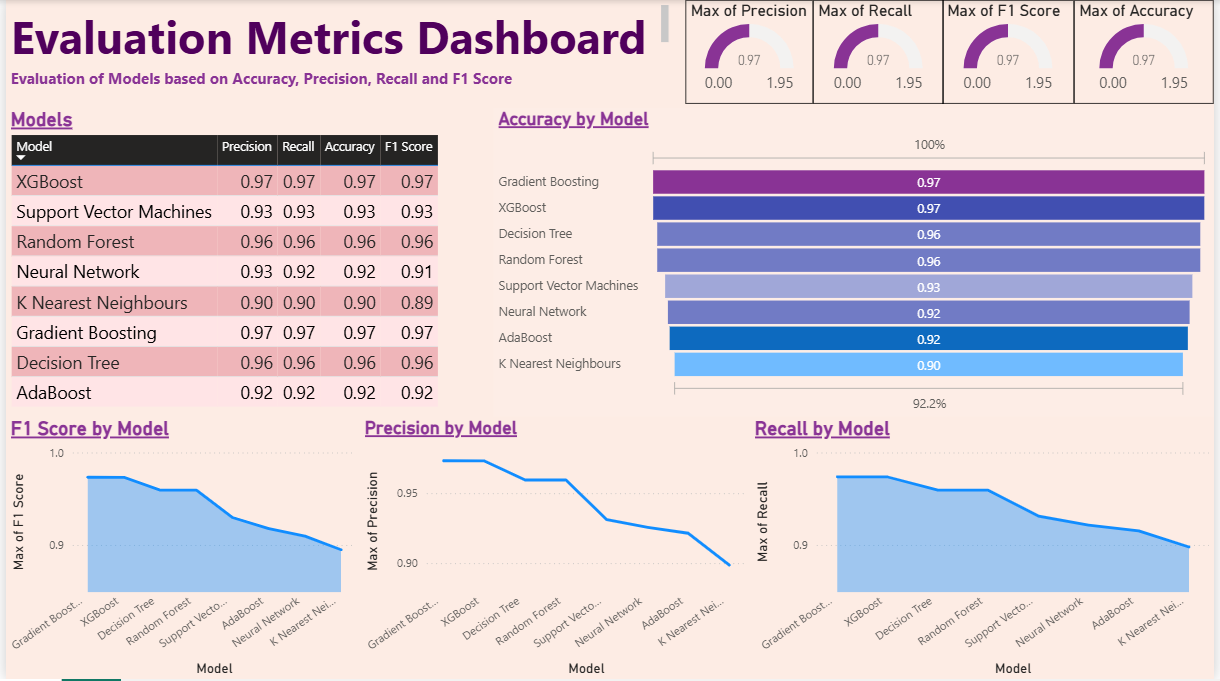

This screenshot's page, from the dashboard's own definition file:
{"tool":"powerbi","page":{"name":"Page 1","canvas":[1280,720],"ordinal":0},"visuals":[{"type":"textbox","box":[0,0,707.8,66.8],"z":0},{"type":"tableEx","title":"Models","fields":{"Values":["All_Classification_Results.Model","All_Classification_Results.Precision","All_Classification_Results.Recall","All_Classification_Results.Accuracy","All_Classification_Results.F1 Score"]},"box":[0,114.5,488.3,327.7],"z":2000},{"type":"funnel","title":"Accuracy by Model","fields":{"Category":["All_Classification_Results.Model"],"Y":["Avg(All_Classification_Results.Accuracy)"]},"box":[516.9,114.5,763.5,327.7],"z":3000},{"type":"areaChart","title":"F1 Score by Model","fields":{"Category":["All_Classification_Results.Model"],"Y":["Max(All_Classification_Results.F1 Score)"]},"box":[0,442.2,375.4,278.4],"z":4000},{"type":"lineChart","title":"Precision by Model","fields":{"Category":["All_Classification_Results.Model"],"Y":["Max(All_Classification_Results.Precision)"]},"box":[375.4,442.2,413.6,278.4],"z":5000},{"type":"areaChart","title":"Recall by Model","fields":{"Category":["All_Classification_Results.Model"],"Y":["Max(All_Classification_Results.Recall)"]},"box":[788.9,442.2,491.5,278.4],"z":6000},{"type":"gauge","fields":{"Y":["Max(All_Classification_Results.Accuracy)"]},"box":[1132.5,0,147.9,109.8],"z":7000},{"type":"gauge","fields":{"Y":["Max(All_Classification_Results.F1 Score)"]},"box":[992.5,0,140,109.8],"z":8000},{"type":"gauge","fields":{"Y":["Max(All_Classification_Results.Precision)"]},"box":[720.5,0,135.2,109.8],"z":9000},{"type":"gauge","fields":{"Y":["Max(All_Classification_Results.Recall)"]},"box":[855.7,0,138.4,109.8],"z":10000},{"type":"textbox","box":[0,66.8,567.8,42.9],"z":11000}]}

Visuals, with their boxes in screenshot pixels (x1, y1, x2, y2), scaled from the page's 1280x720 canvas onto the 1220x681 screenshot:
textbox: box=[0, 0, 675, 63]
"Models" tableEx: box=[0, 108, 465, 418]
"Accuracy by Model" funnel: box=[493, 108, 1219, 418]
"F1 Score by Model" areaChart: box=[0, 418, 358, 680]
"Precision by Model" lineChart: box=[358, 418, 752, 680]
"Recall by Model" areaChart: box=[752, 418, 1219, 680]
gauge - Max(All_Classification_Results.Accuracy): box=[1079, 0, 1219, 104]
gauge - Max(All_Classification_Results.F1 Score): box=[946, 0, 1079, 104]
gauge - Max(All_Classification_Results.Precision): box=[687, 0, 816, 104]
gauge - Max(All_Classification_Results.Recall): box=[816, 0, 948, 104]
textbox: box=[0, 63, 541, 104]
